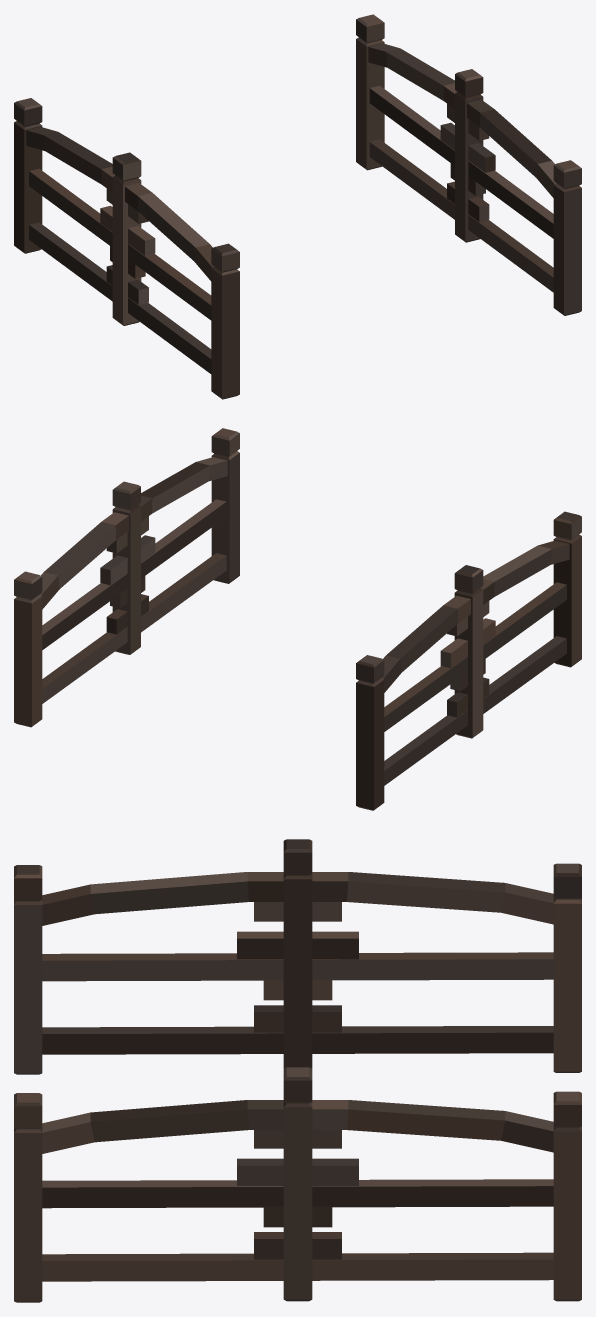
The model's file is Bridge-Mid.fbx.
3 renders of one model, top to bottom at view 1: azimuth 30°, elevation 25°; view 2: azimuth 150°, elevation 25°; view 3: azimuth 270°, elevation 25°, orthographic. The views are drawn at different scales.
Visible parts, largest first — view 1: Bridge-Mid; view 2: Bridge-Mid; view 3: Bridge-Mid.
Part boxes in pixels (left/top/right/bottom): Bridge-Mid: left=14, top=14, right=581, bottom=399; Bridge-Mid: left=14, top=428, right=581, bottom=810; Bridge-Mid: left=14, top=839, right=581, bottom=1302.
Bounding box in the file's own units: 500 × 219 × 500.
